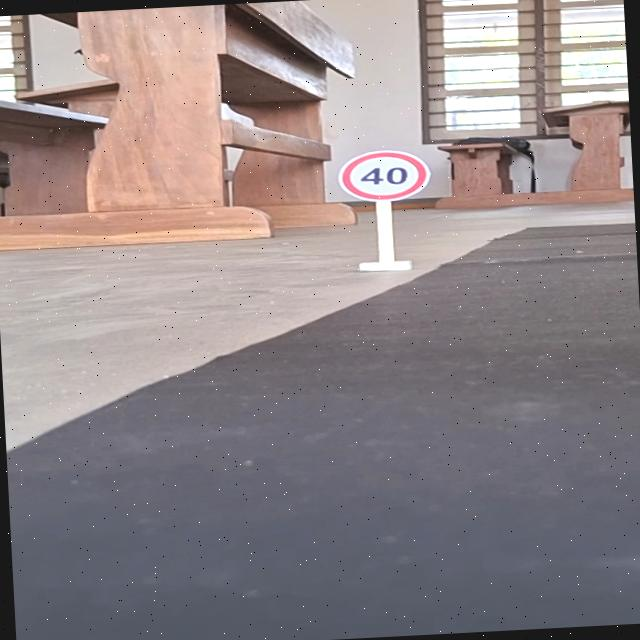Speed40: (329, 142, 439, 206)
